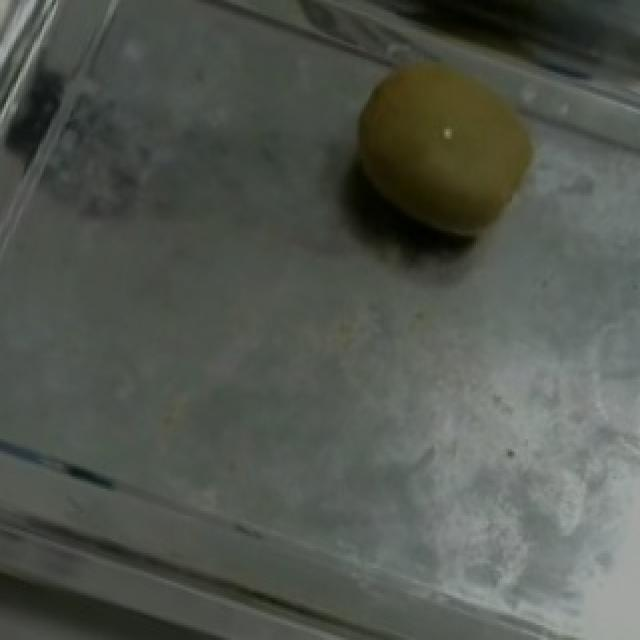Fruit: (314, 0, 570, 283)
